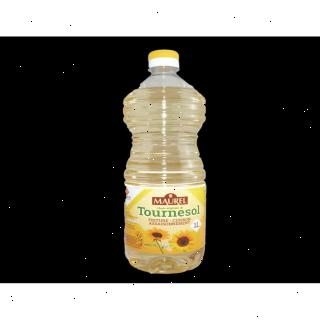Plastic-bottle: (119, 48, 215, 282)
